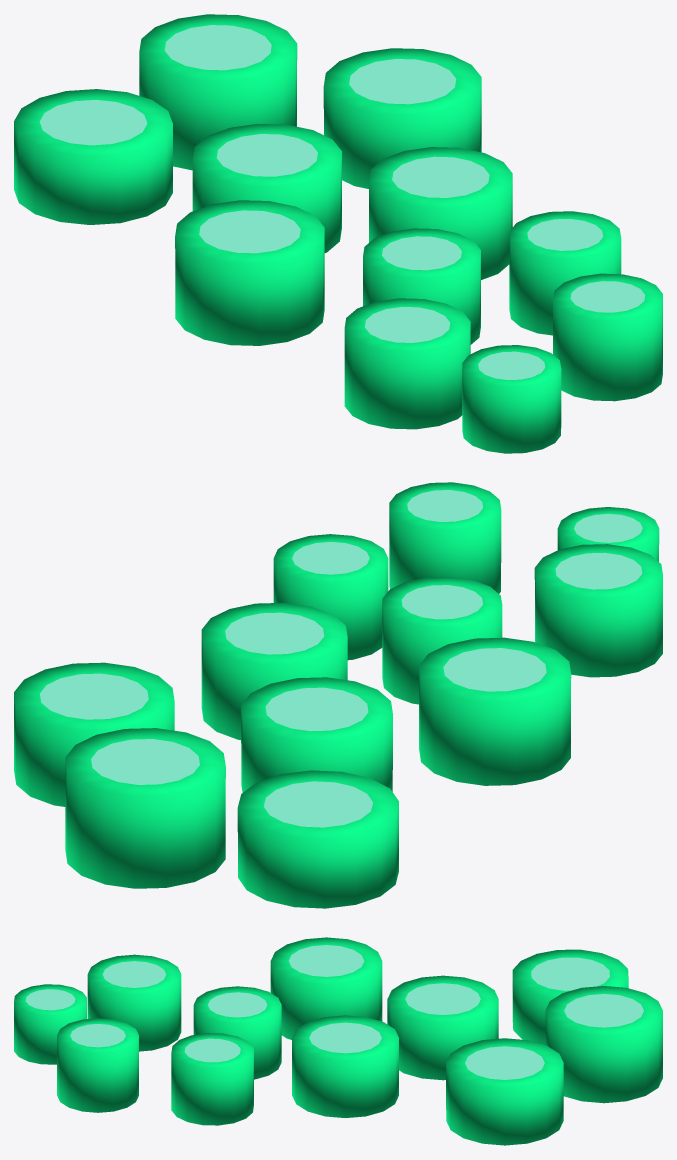
The model's file is leek_chopped_model.fbx.
The picture shows the model from 3 angles, top to bottom: view 1: azimuth 30°, elevation 25°; view 2: azimuth 150°, elevation 25°; view 3: azimuth 270°, elevation 25°; orthographic projection. The views are drawn at different scales.
Parts seen in each view (by area): view 1: Leek Chopped Model; view 2: Leek Chopped Model; view 3: Leek Chopped Model.
Boxes of the visible parts, x1,y1,x2,y2 form: Leek Chopped Model: [14, 14, 662, 453]; Leek Chopped Model: [14, 482, 662, 908]; Leek Chopped Model: [14, 937, 662, 1145].
Bounding box in the file's own units: 73.36 × 39.35 × 8.44.
